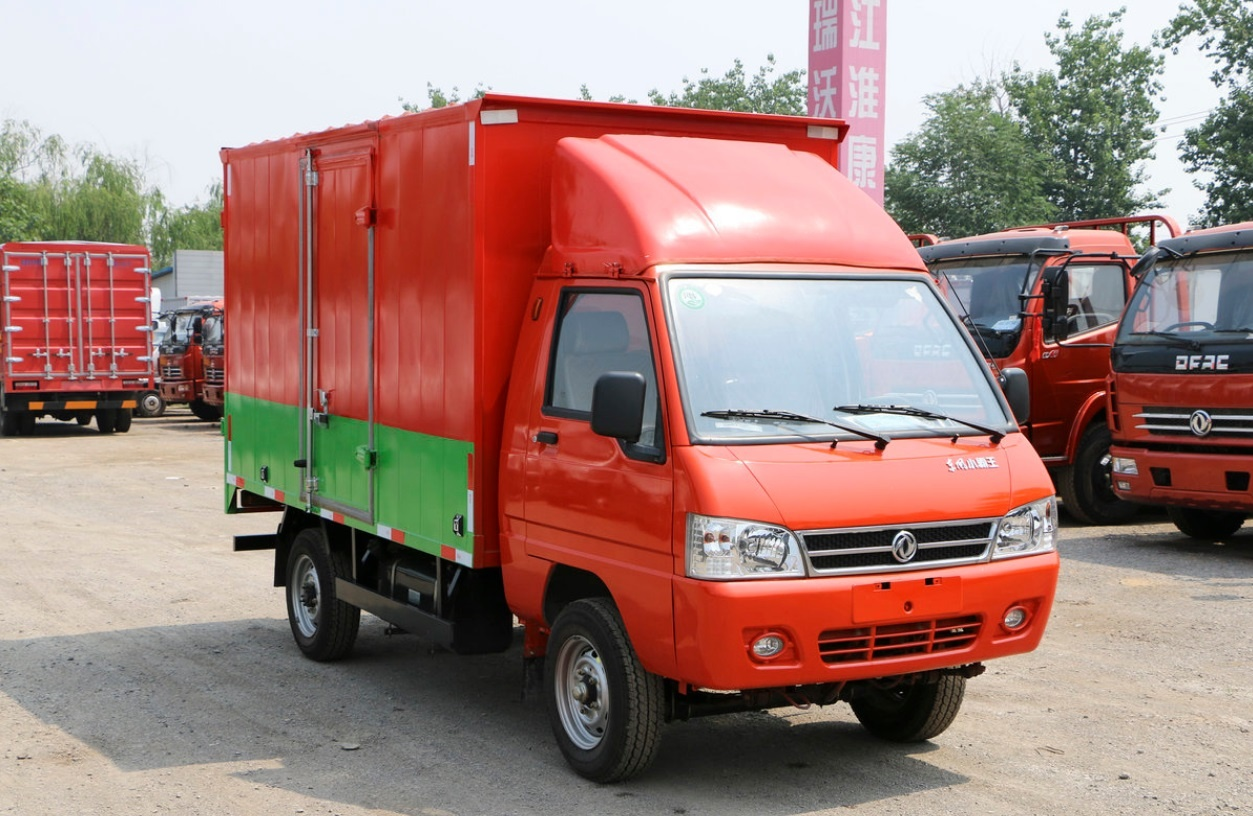truck: (194, 86, 1060, 762)
